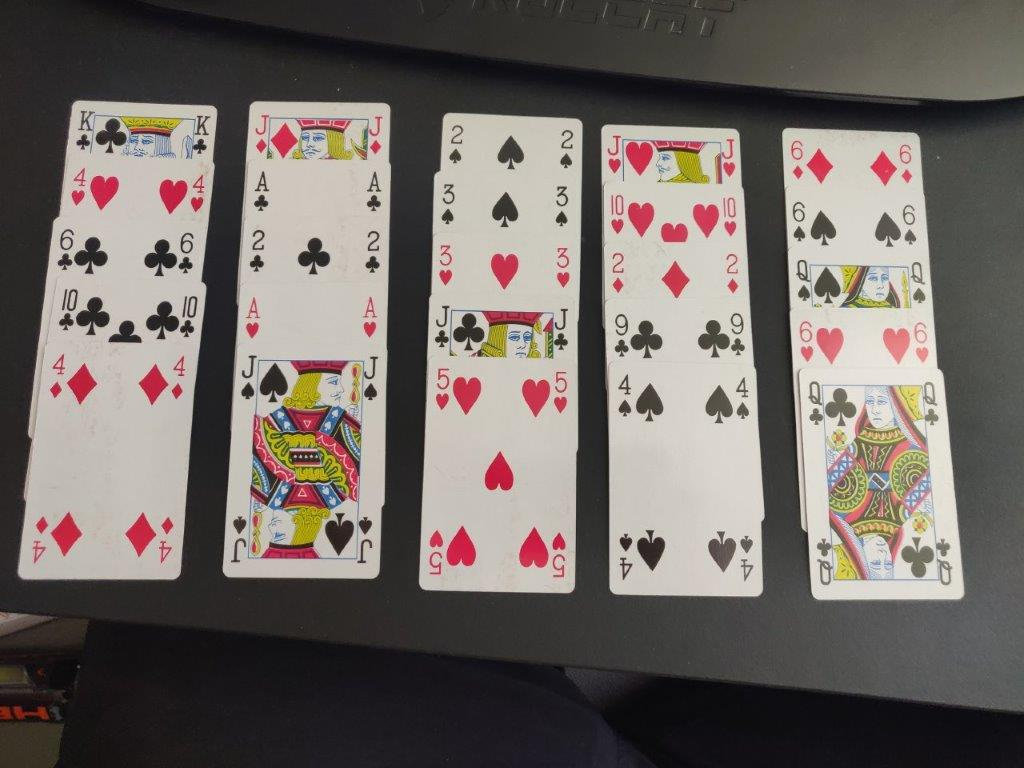10C: (57, 286, 78, 332), (179, 294, 198, 342)
10H: (606, 192, 629, 239), (720, 195, 742, 241)
2C: (248, 228, 268, 276), (365, 229, 383, 276)
2D: (608, 250, 631, 296), (723, 251, 744, 300)
2S: (445, 122, 466, 169), (558, 127, 575, 171)
3H: (552, 245, 574, 292), (436, 241, 457, 289)
3S: (437, 181, 461, 226), (553, 185, 573, 229)
4D: (49, 353, 67, 400), (170, 354, 187, 403)
4H: (68, 167, 90, 208), (190, 173, 205, 217)
4S: (735, 375, 752, 422), (615, 373, 633, 417)
5H: (551, 367, 571, 419), (432, 366, 452, 416)
6C: (56, 225, 76, 272), (178, 231, 196, 277)
6D: (788, 136, 808, 186), (899, 141, 915, 187)
6H: (795, 317, 816, 366), (912, 319, 933, 363)
6S: (788, 196, 811, 247), (901, 200, 920, 249)
9C: (611, 310, 632, 361), (728, 309, 748, 359)
AC: (251, 170, 273, 214), (364, 170, 384, 213)
AH: (362, 295, 380, 346), (244, 295, 263, 342)
JC: (551, 305, 572, 358), (432, 301, 452, 351)
JD: (366, 115, 385, 156), (252, 112, 269, 154)
JH: (603, 132, 625, 176), (718, 136, 739, 179)
JS: (239, 354, 259, 407), (363, 355, 380, 403)
KC: (71, 107, 95, 152), (192, 113, 211, 159)
QC: (805, 380, 827, 430), (922, 380, 941, 431)
QS: (793, 257, 814, 305), (909, 258, 928, 308)
